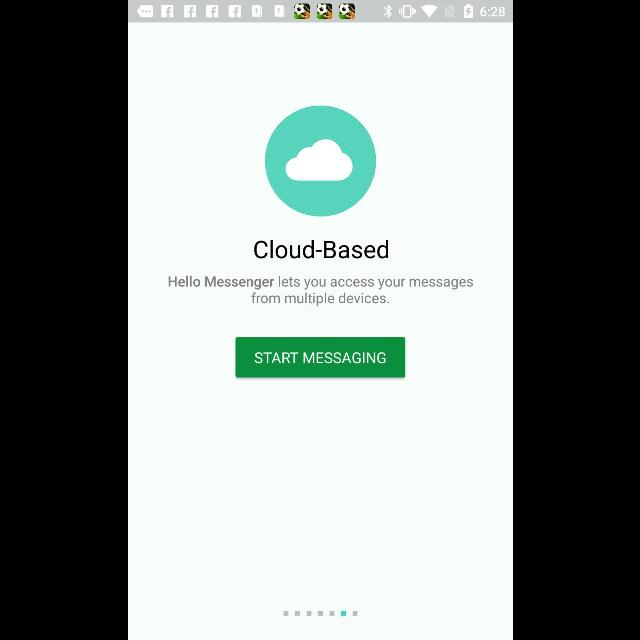image: (264, 106, 376, 217)
pageindicator: (283, 610, 357, 616)
text: (168, 276, 472, 306), (254, 240, 388, 258)
textbutton: (234, 337, 404, 377)
uppertaskbar: (128, 1, 512, 23)
